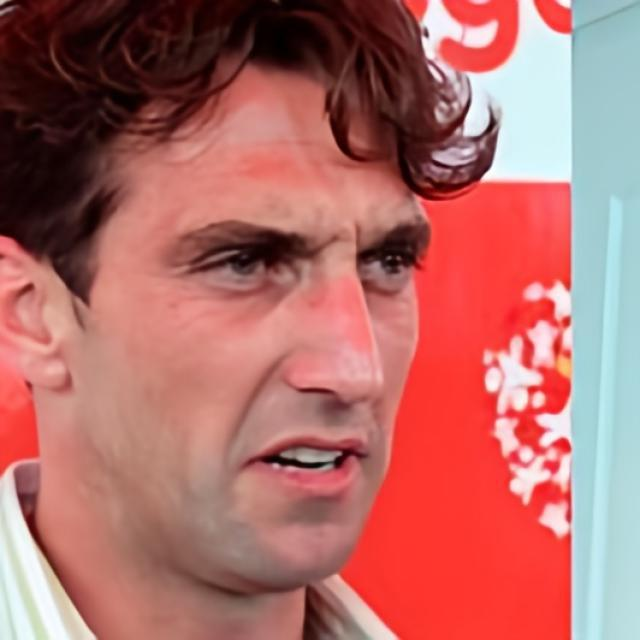disgust: (70, 47, 434, 596)
